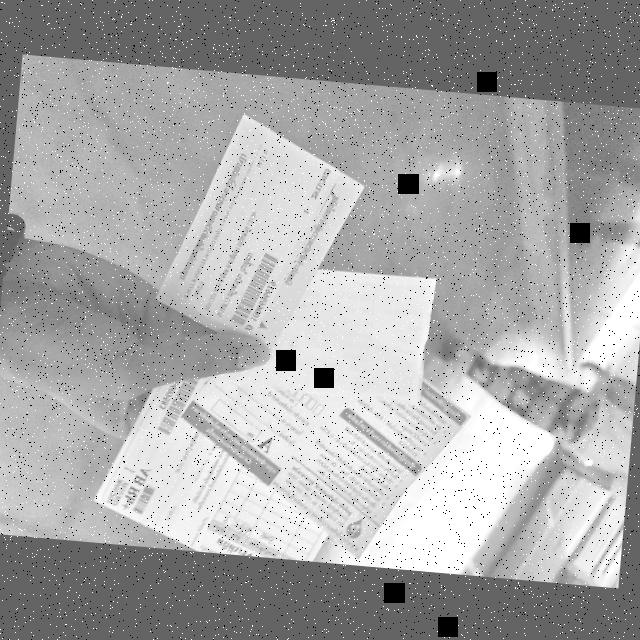scrap_paper: (171, 328, 475, 564), (140, 98, 378, 365), (97, 357, 362, 562), (212, 247, 454, 408)
